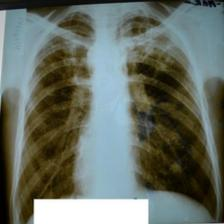tuberculosis: (13, 7, 223, 224)
